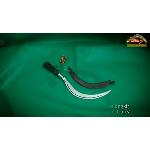Celurit: (39, 53, 115, 100)
